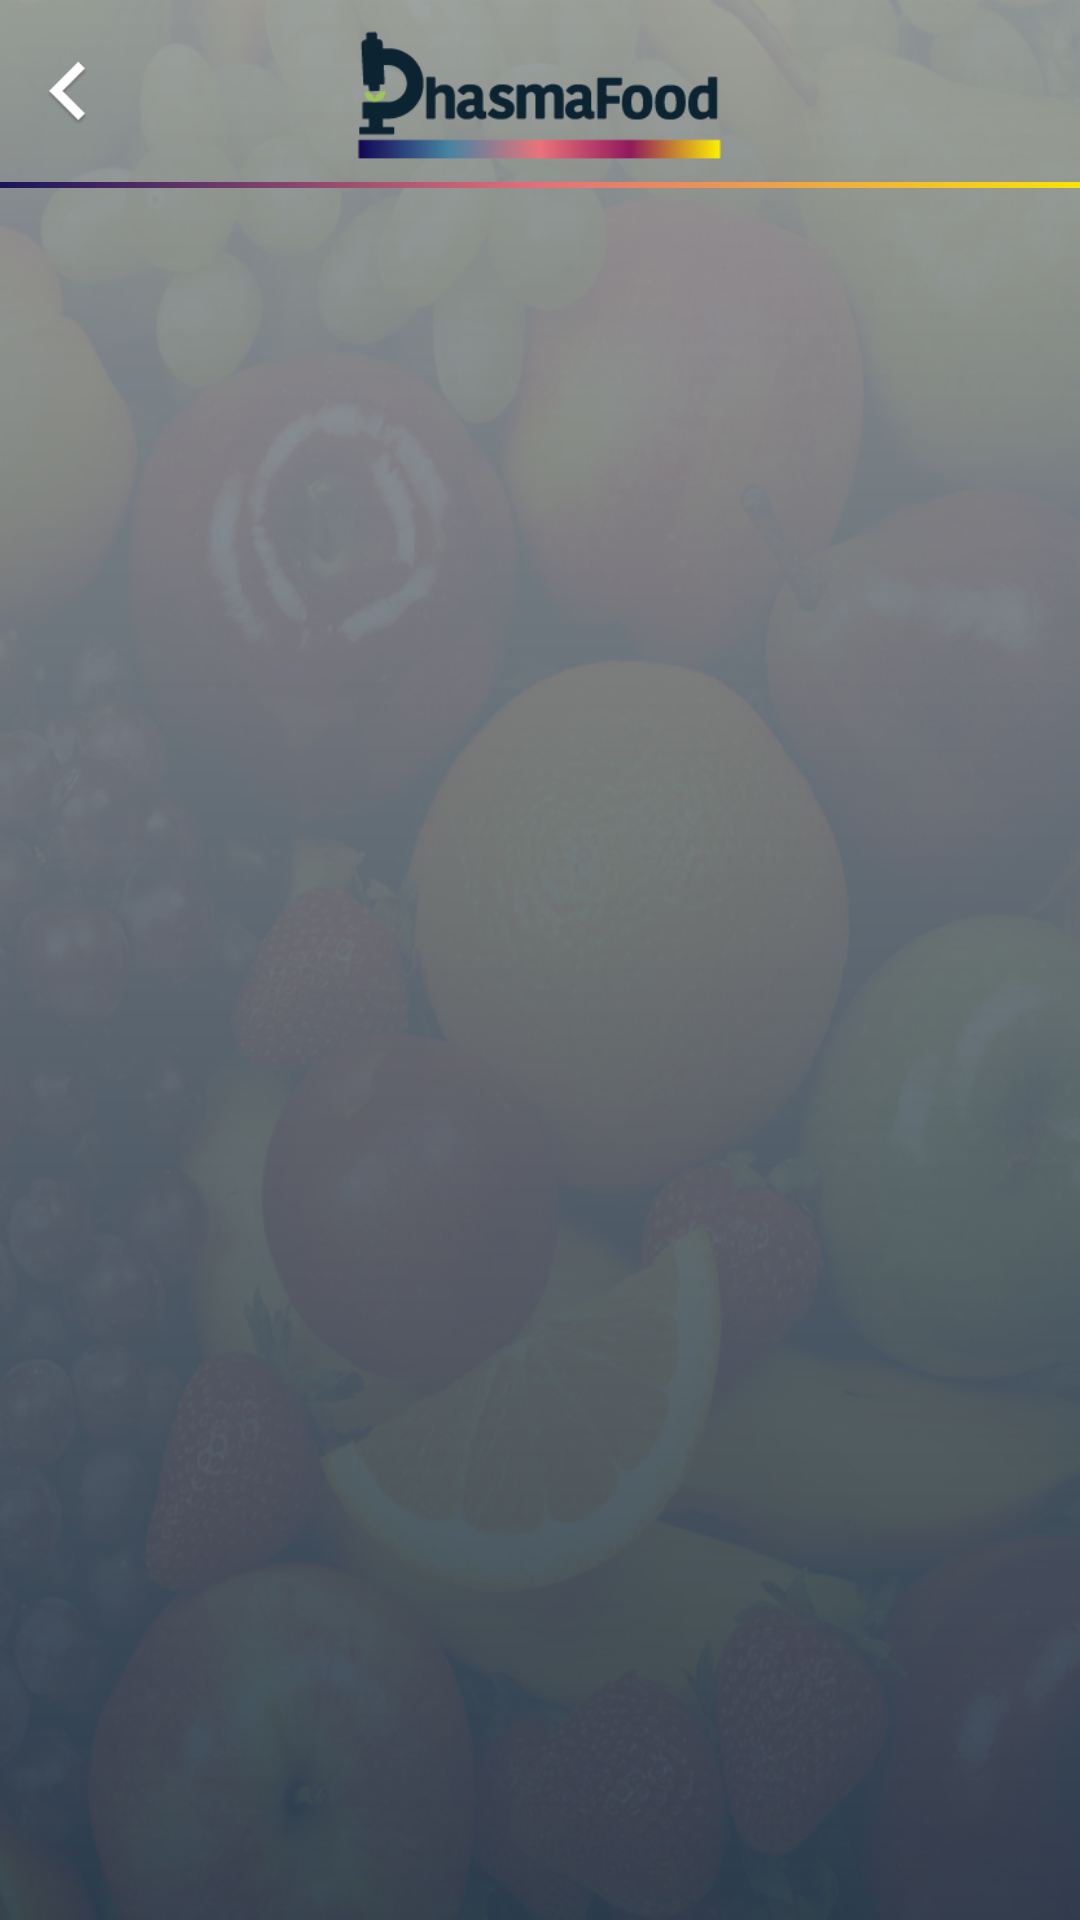

Screen size 1080x1920. Icon name, then its box in pixels as bbox=(x1, y1, x2, y2):
back: bbox=(49, 62, 85, 121)
